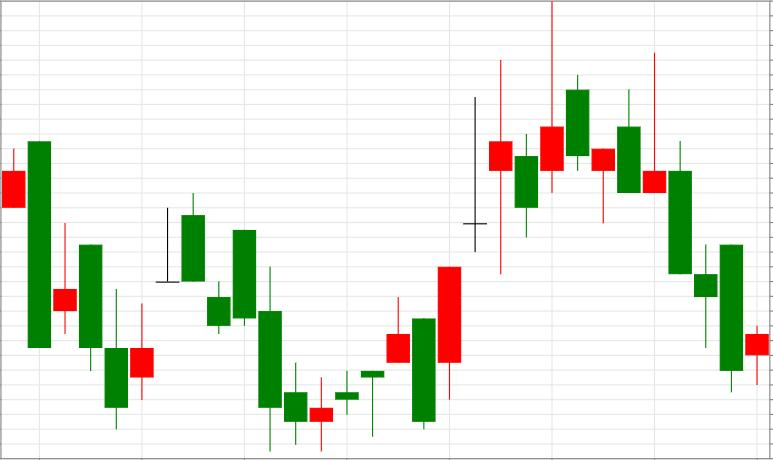shooting_star_fall: (310, 2, 563, 450)
